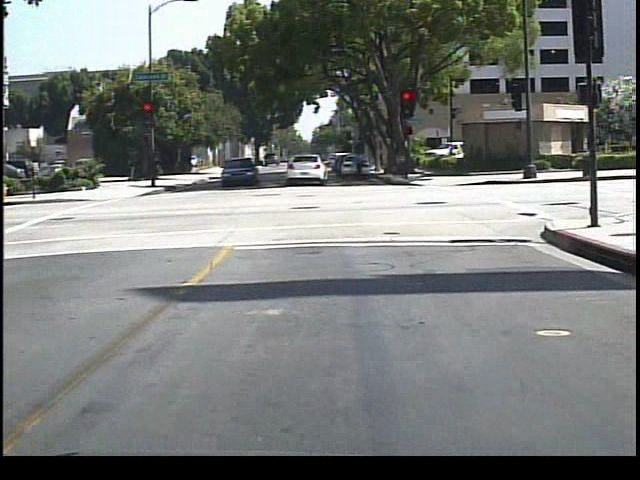person: (348, 143, 369, 185)
